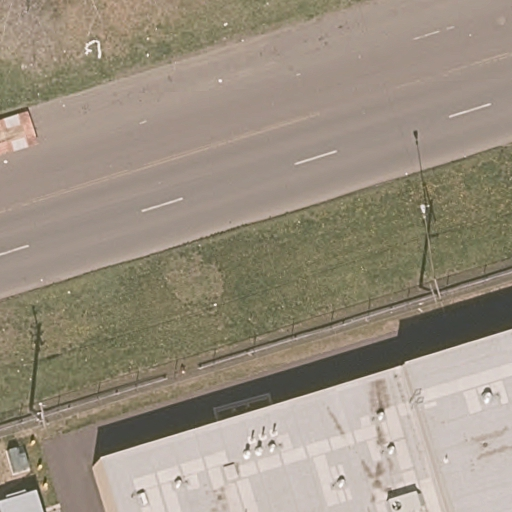DT: (32, 400, 53, 438), (428, 275, 447, 311)
